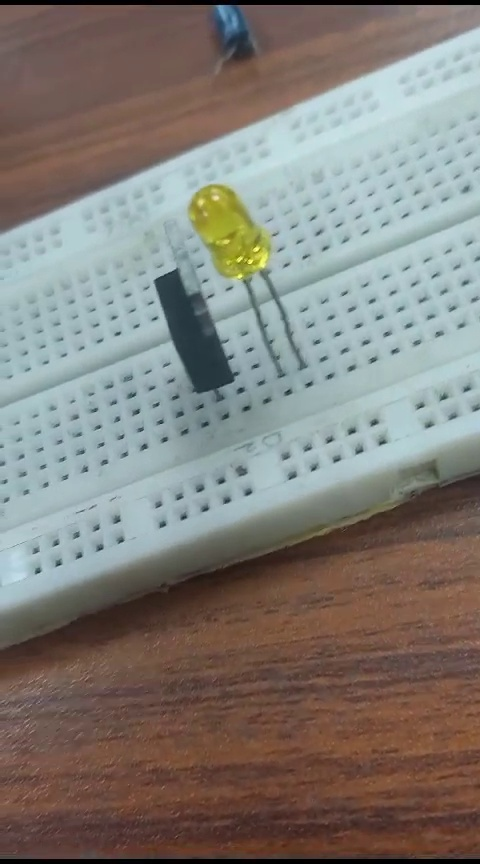LED: (115, 233, 220, 405), (176, 184, 278, 276)
